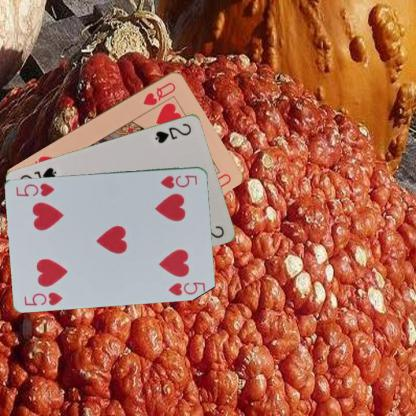2s: (152, 120, 194, 145)
5h: (22, 289, 64, 307), (158, 172, 198, 190)
Qh: (140, 79, 178, 107)
